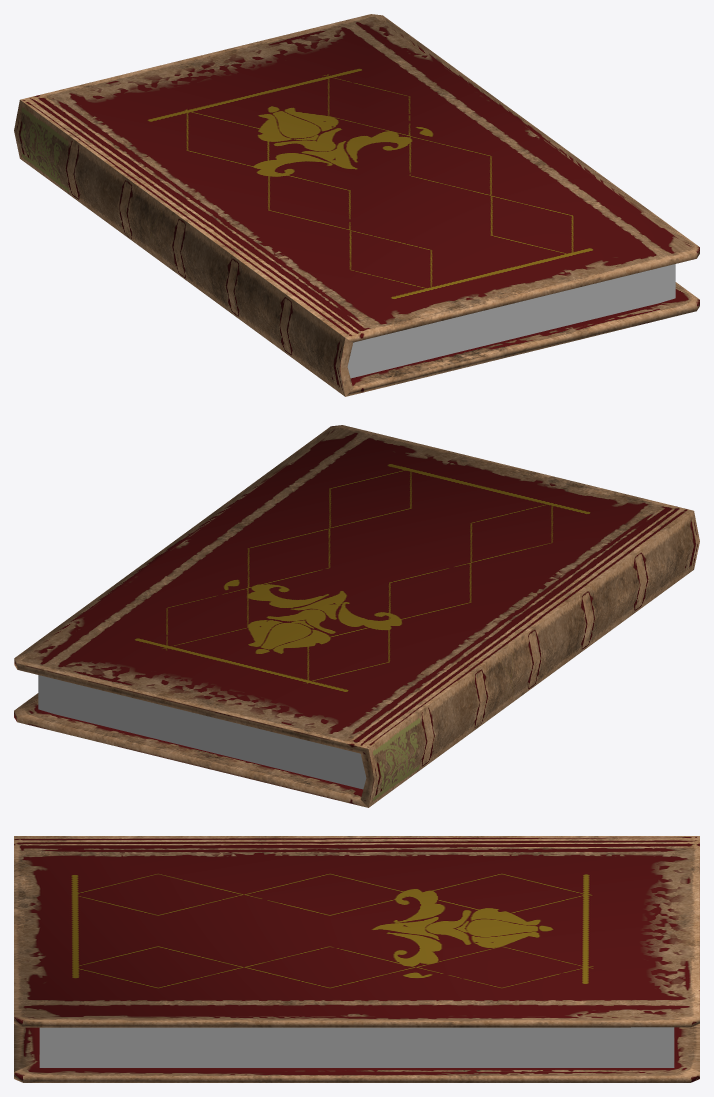
The model's file is hard_book.glb.
3 views of the same model, one above another, from view 1: azimuth 30°, elevation 25°; view 2: azimuth 150°, elevation 25°; view 3: azimuth 270°, elevation 25° (orthographic). The views are drawn at different scales.
Parts seen in each view (by area): view 1: Cube.004; view 2: Cube.004; view 3: Cube.004.
Boxes of the visible parts, x1,y1,x2,y2 form: Cube.004: (14, 14, 699, 396); Cube.004: (14, 425, 699, 807); Cube.004: (14, 836, 699, 1082).
Bounding box in the file's own units: 0.2386 × 0.0369 × 0.3686.
Materials: 1 (1 with a texture image).
